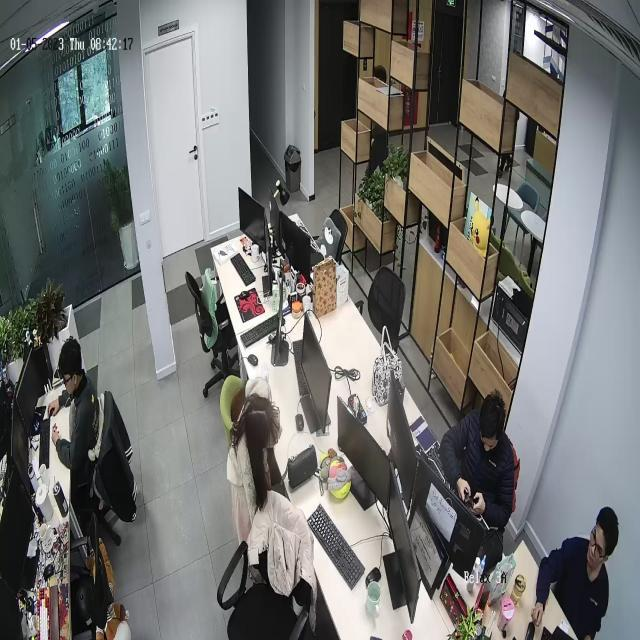person: (527, 506, 618, 640), (439, 390, 516, 531), (48, 338, 101, 488), (232, 379, 286, 513)
